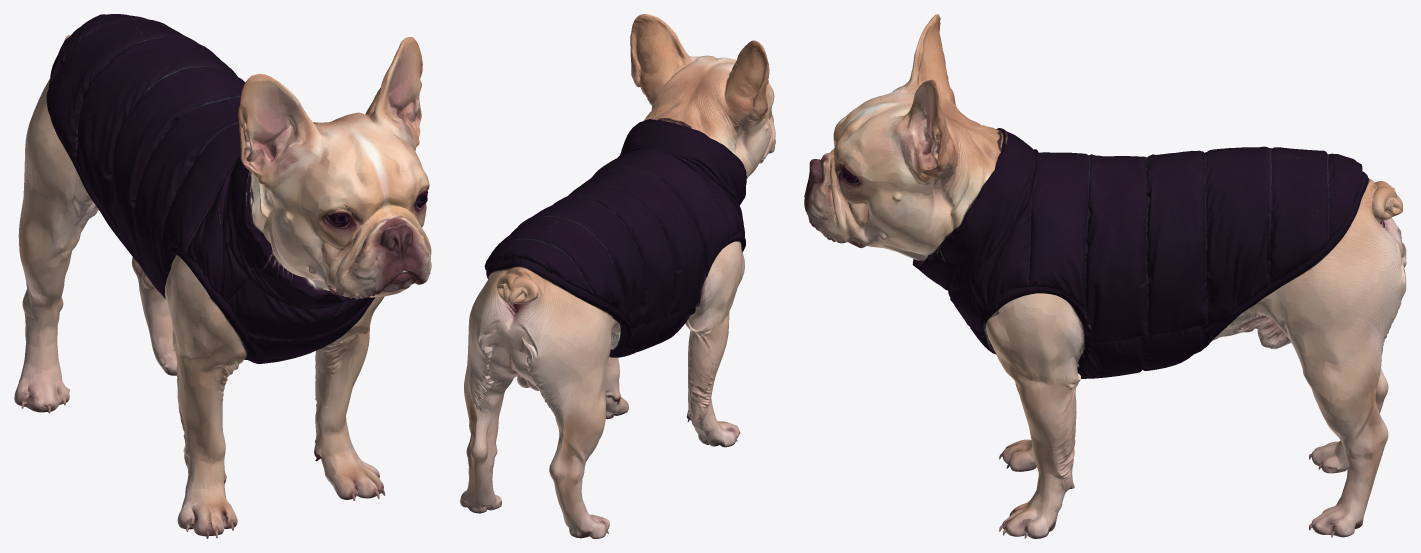
File: zhuangzhuang-standing-black-puffer.glb
The picture shows the model from 3 angles, left to right: view 1: azimuth 30°, elevation 25°; view 2: azimuth 150°, elevation 25°; view 3: azimuth 270°, elevation 25°; orthographic projection. The views are drawn at different scales.
Visible parts, largest first — view 1: Mesh_0; view 2: Mesh_0; view 3: Mesh_0.
Part boxes in pixels (x1,y1,x2,y2): Mesh_0: (14,14,431,538); Mesh_0: (460,14,775,538); Mesh_0: (804,14,1406,538).
Size of the model in its own units: 0.1723 by 0.4 by 0.4881.
1 material, 1 textured.
